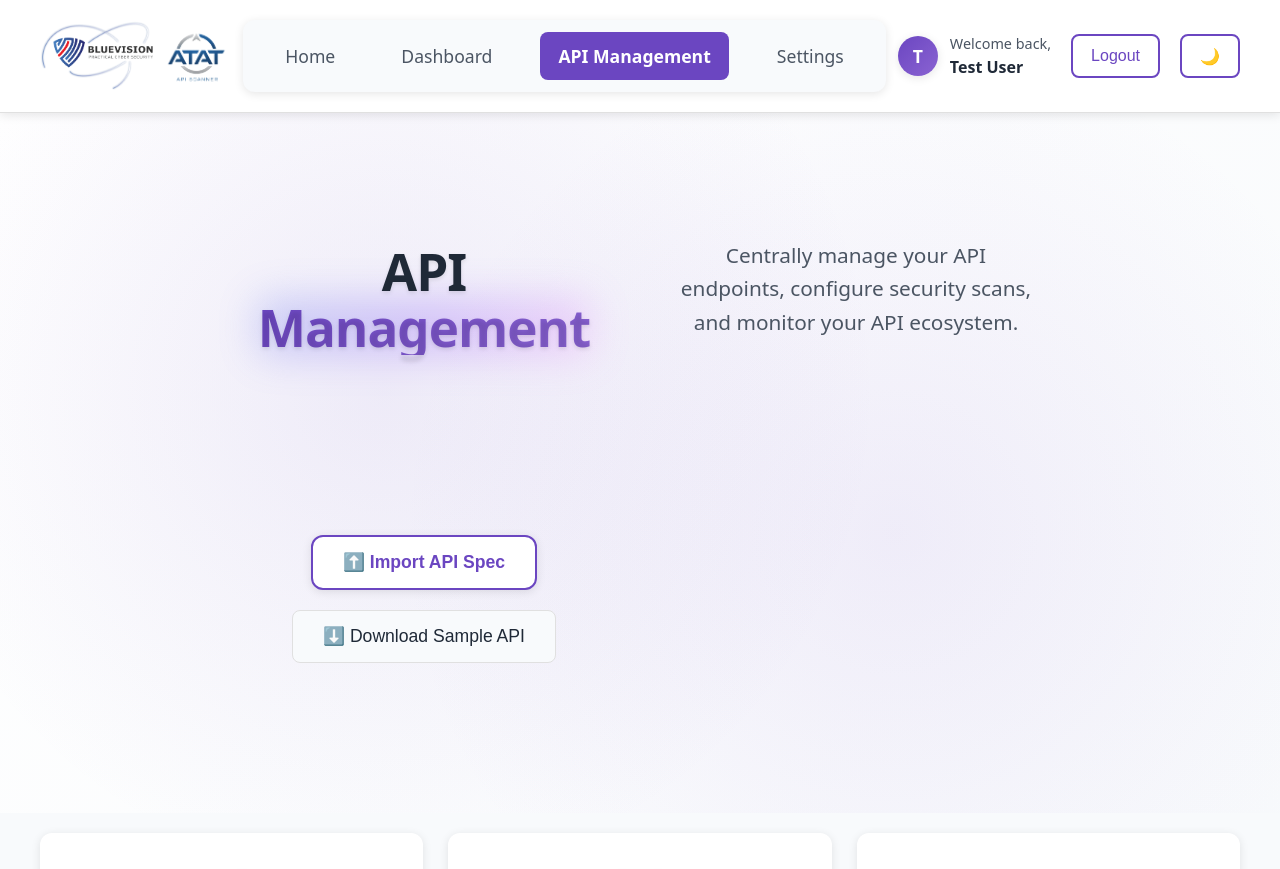
Test: ManageAPIs Component - Working Additional Tests › Import modal closes when close button clicked
The width and height of the screenshot is (1280, 869).
What coordinates should you click on to do the following:
click the button "⬆️ Import API Spec"
I would click on:
 (424, 563)
Its box is [311, 535, 537, 590].
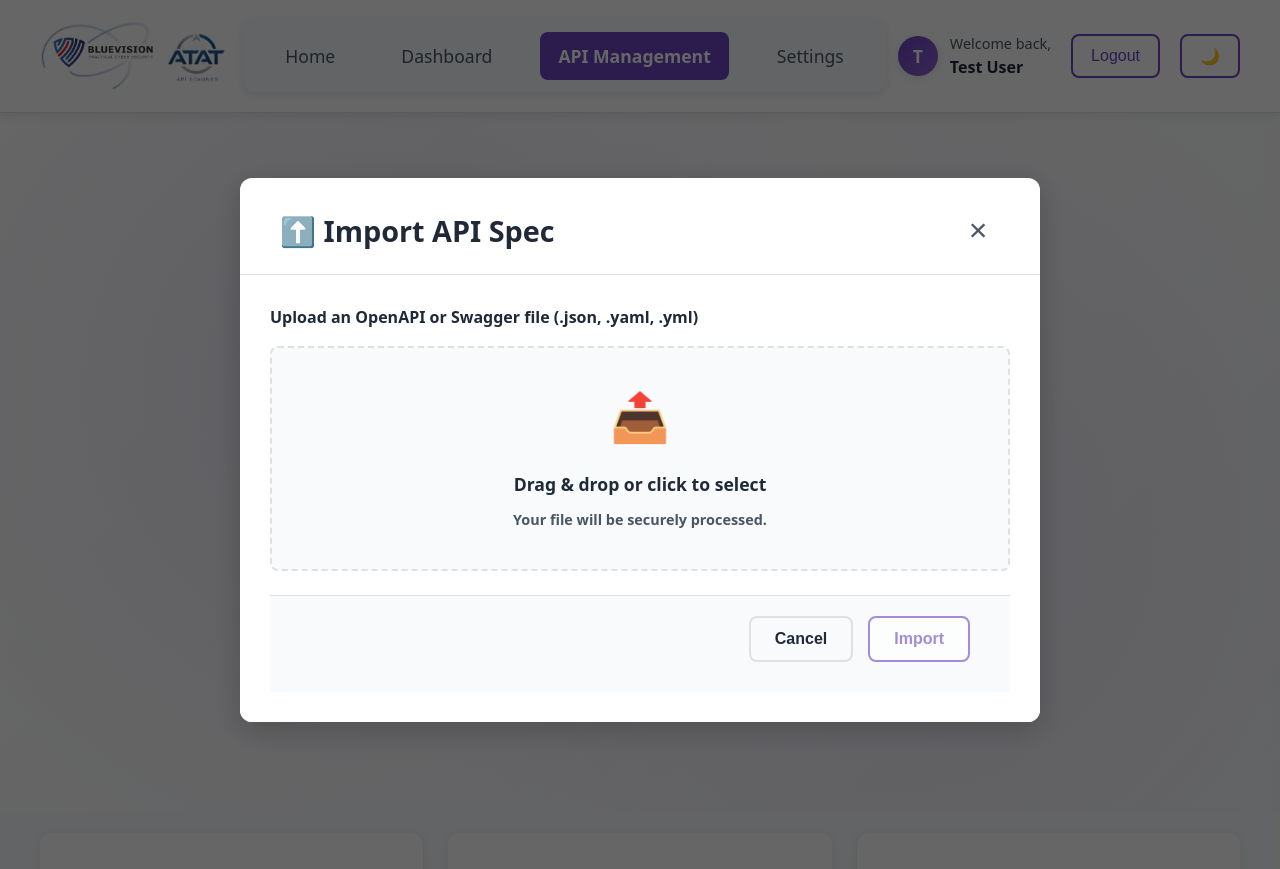
Expected: the text "Upload an OpenAPI or Swagger file (.json, .yaml, .yml)" is shown, [270, 306, 698, 328]
What coordinates should you click on to do the following:
click the button "×"
I would click on:
 (978, 231)
Its box is [956, 209, 1000, 253].
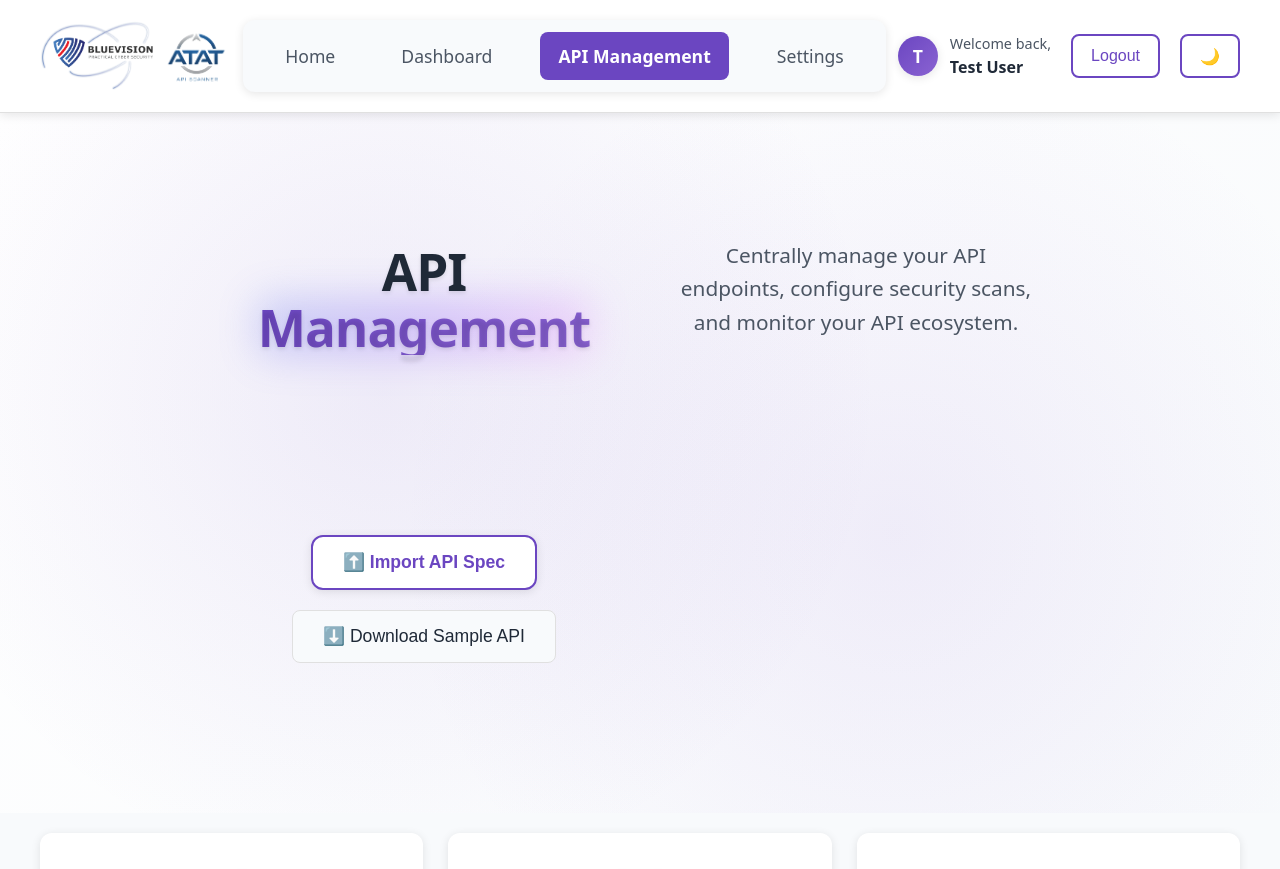
Expected: the text "Upload an OpenAPI" is gone
